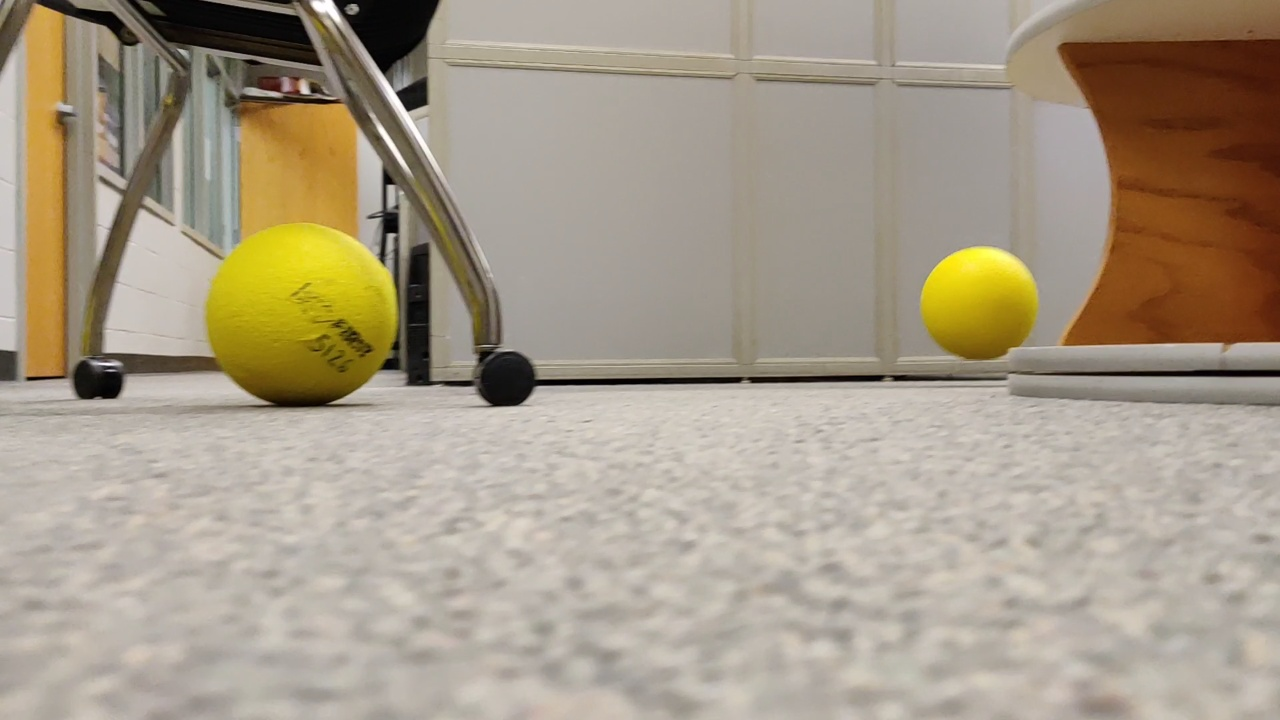Ball: (209, 221, 399, 401), (921, 245, 1038, 361)
